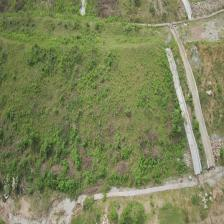slope drain: (170, 24, 217, 169), (164, 46, 203, 176)
